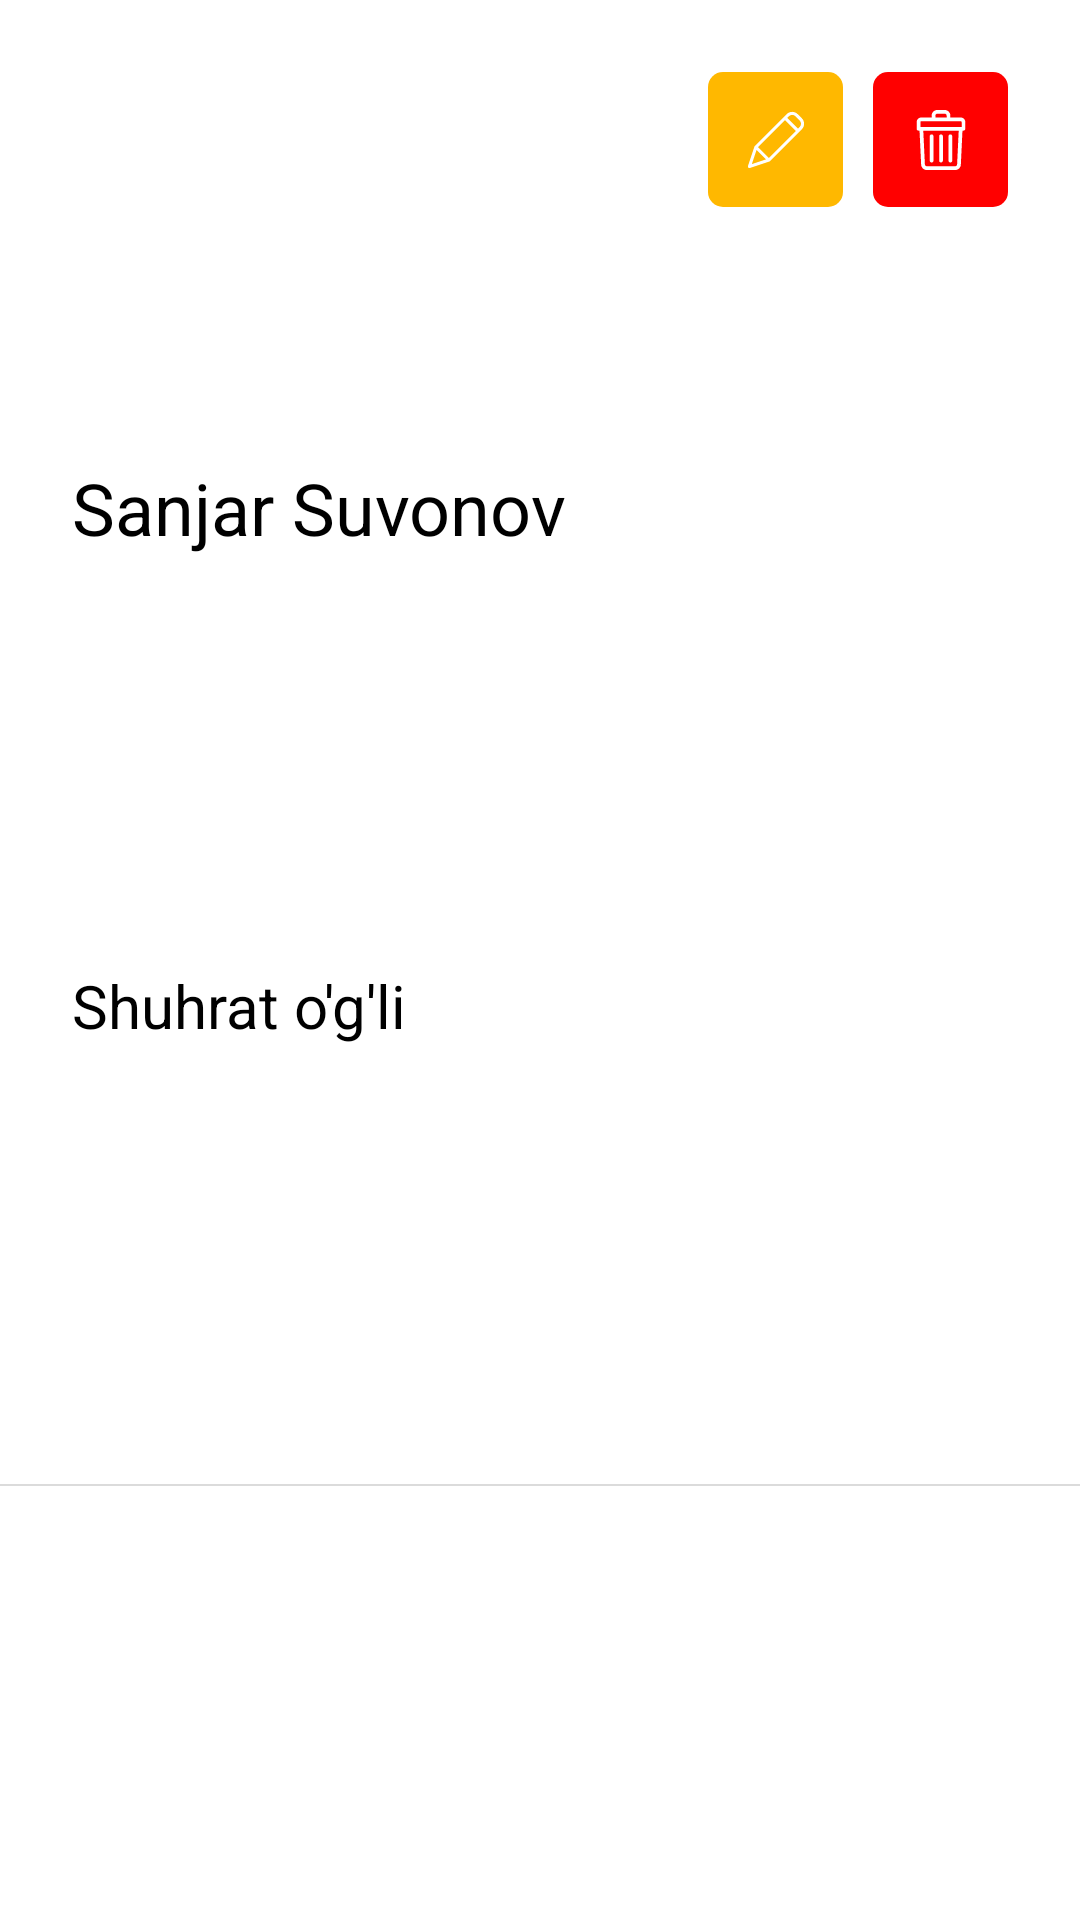

Screen size 1080w x 1920h. Icon name, then its center in pixels as (x,y):
pencil: (775,139)
trash: (940,139)
